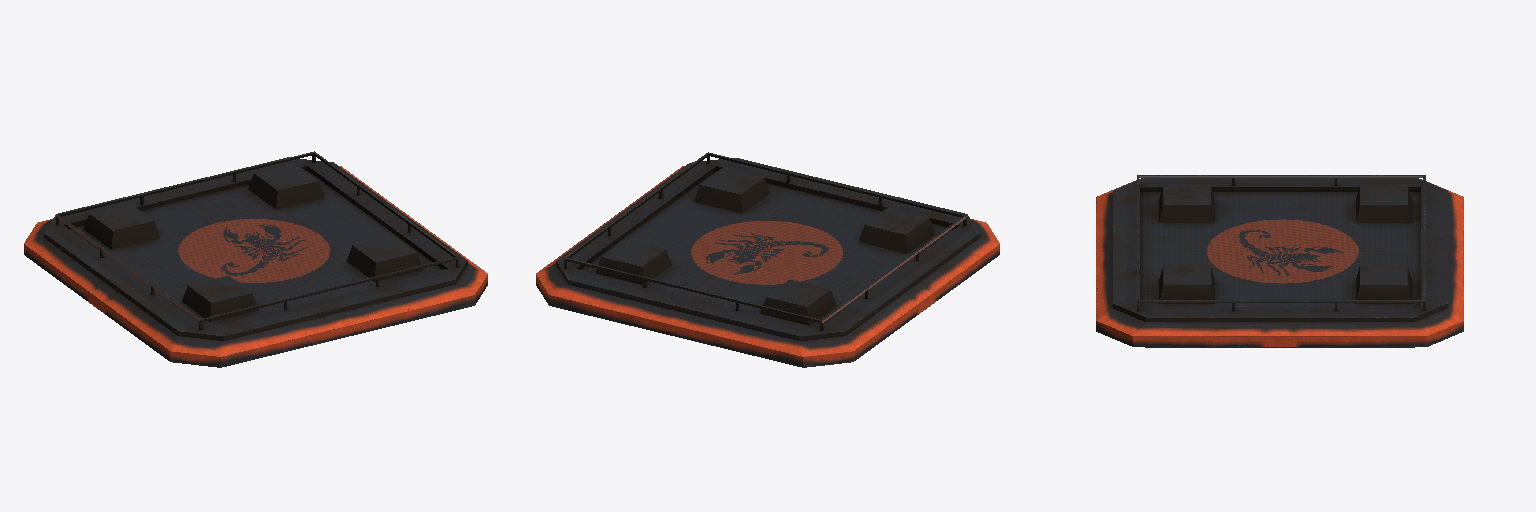
3 views of the same model, side by side, from view 1: azimuth 30°, elevation 25°; view 2: azimuth 150°, elevation 25°; view 3: azimuth 270°, elevation 25° (orthographic).
Parts seen in each view (by area): view 1: Box001; view 2: Box001; view 3: Box001.
Part boxes in pixels (bbox=[...]): Box001: bbox=[24, 151, 487, 367]; Box001: bbox=[536, 152, 999, 367]; Box001: bbox=[1096, 175, 1463, 347].
Bounding box in the file's own units: 43.87 × 5.49 × 43.89.
Materials: 1 (1 with a texture image).